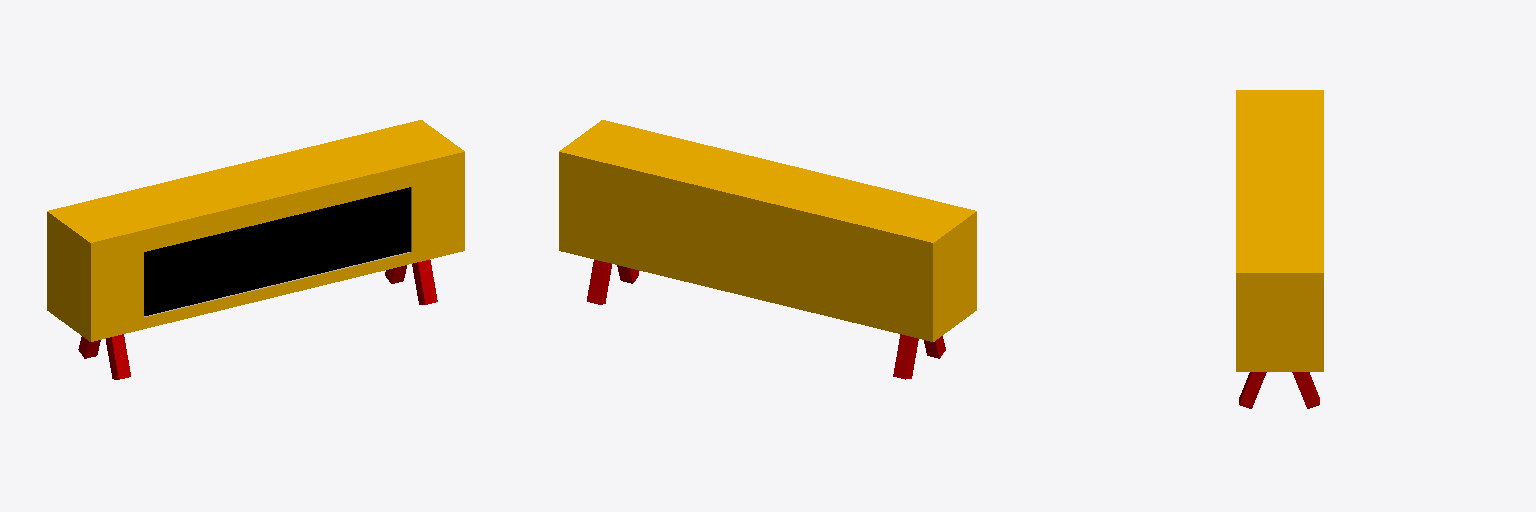
File: game_clock.obj
3 views of the same model, side by side, from view 1: azimuth 30°, elevation 25°; view 2: azimuth 150°, elevation 25°; view 3: azimuth 270°, elevation 25° (orthographic).
Parts seen in each view (by area): view 1: Cube, Cube.005, Cube.001, Cube.002; view 2: Cube, Cube.004, Cube.003; view 3: Cube, Cube.002, Cube.003.
Boxes of the visible parts, x1=… form: Cube: x1=47, y1=120, x2=464, y2=341; Cube.005: x1=144, y1=187, x2=410, y2=315; Cube.001: x1=106, y1=334, x2=130, y2=379; Cube.002: x1=412, y1=260, x2=437, y2=304; Cube: x1=559, y1=120, x2=976, y2=341; Cube.004: x1=893, y1=334, x2=918, y2=379; Cube.003: x1=587, y1=260, x2=611, y2=304; Cube: x1=1236, y1=90, x2=1323, y2=371; Cube.002: x1=1239, y1=372, x2=1266, y2=408; Cube.003: x1=1292, y1=372, x2=1319, y2=408.
Bounding box in the file's own units: 0.3007 × 0.1145 × 0.0607.